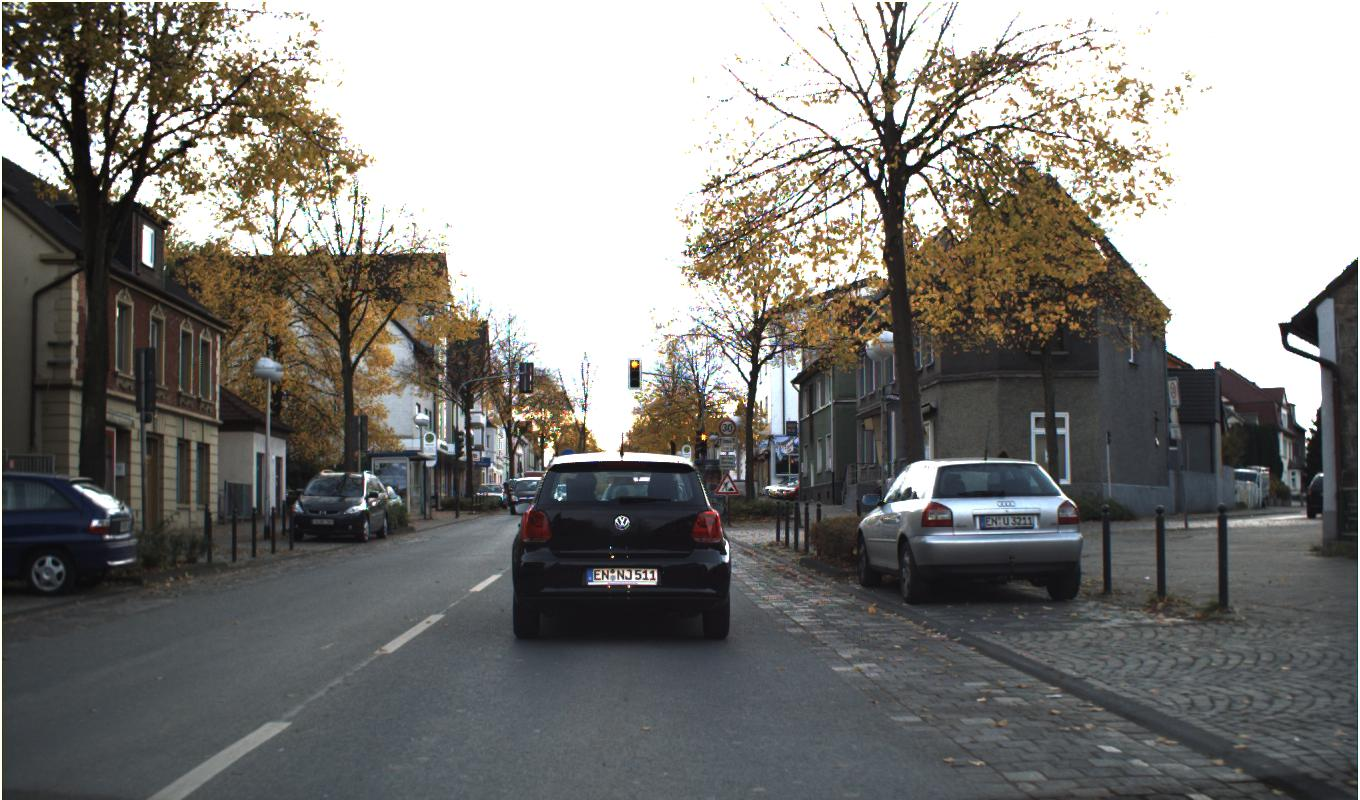danger: (712, 471, 740, 495)
prohibitory: (718, 418, 737, 437)
